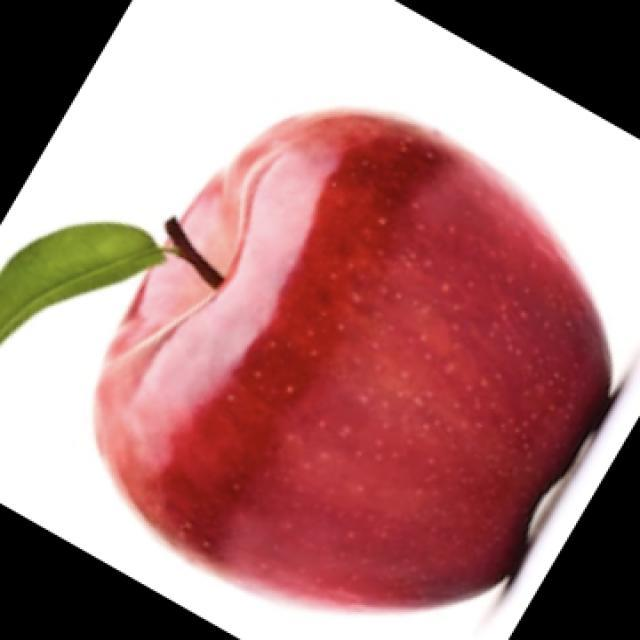Fresh Apple: (90, 120, 630, 610)
